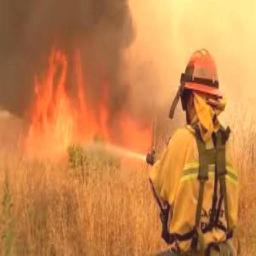Heavy smoke: (4, 0, 133, 51)
Medium fire: (22, 47, 156, 172)
